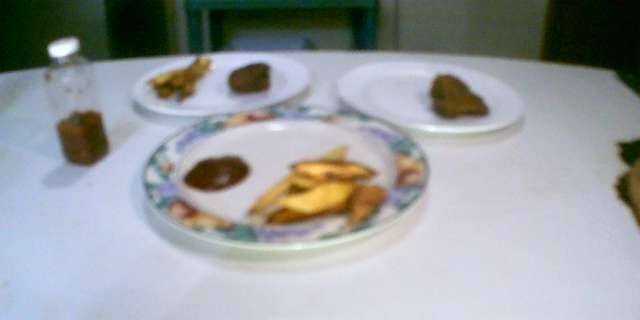chicken: (412, 63, 497, 129), (220, 55, 274, 102)
ketchup_bottle: (35, 31, 115, 171)
ketchup_portion: (182, 148, 252, 194)
potatoe_fries: (252, 145, 390, 236), (140, 48, 215, 106)
